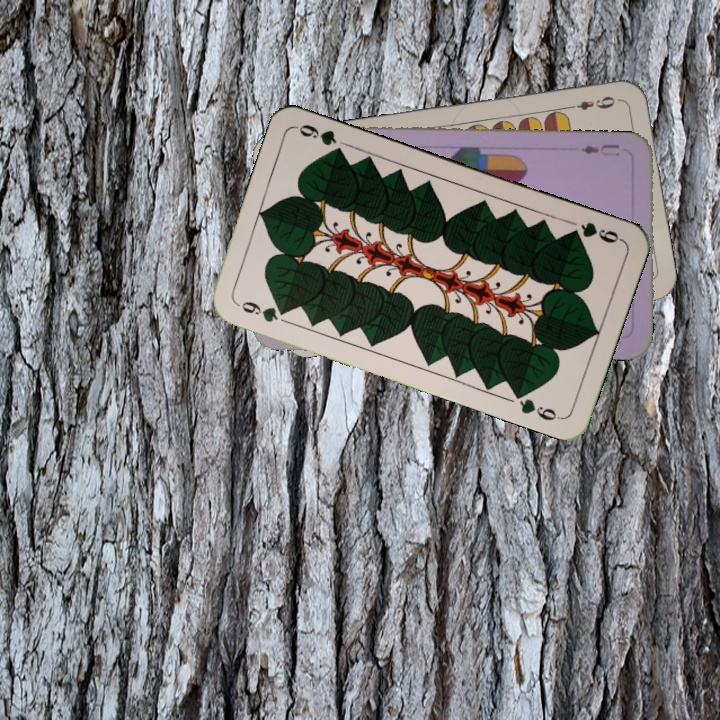E9: (563, 92, 618, 113)
EU: (578, 140, 623, 159)
G9: (564, 218, 625, 246), (232, 297, 291, 325)
